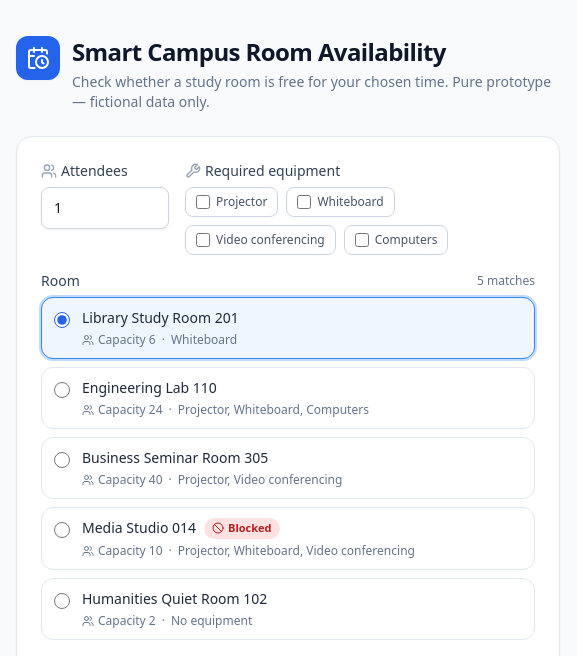
Test: F3 – blocked room is visible but never Available › checks as Unavailable for a valid slot that has no conflicting booking
Click the 4th radio button at (62,530), box [54,522,70,538]
(page scrolled)
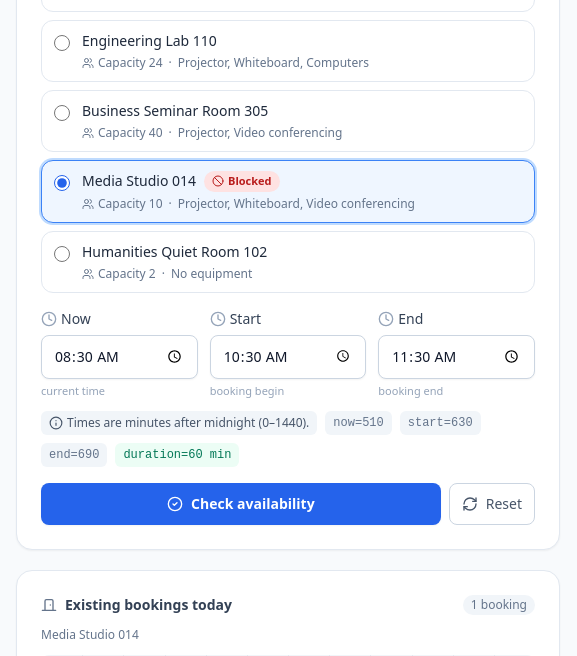
Replace the text in the time field labelled "Now" with "08:00" at (119,356), box [41,334,198,378]
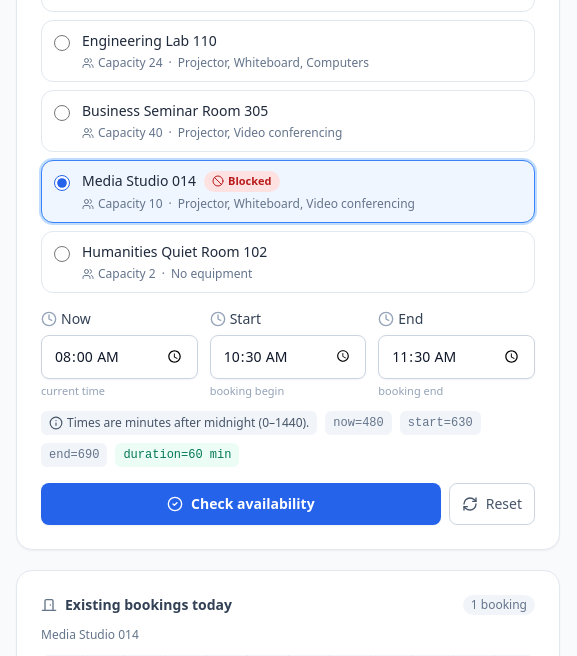
Replace the text in the time field labelled "Start" with "13:00" at (288,356), box [210,334,366,378]
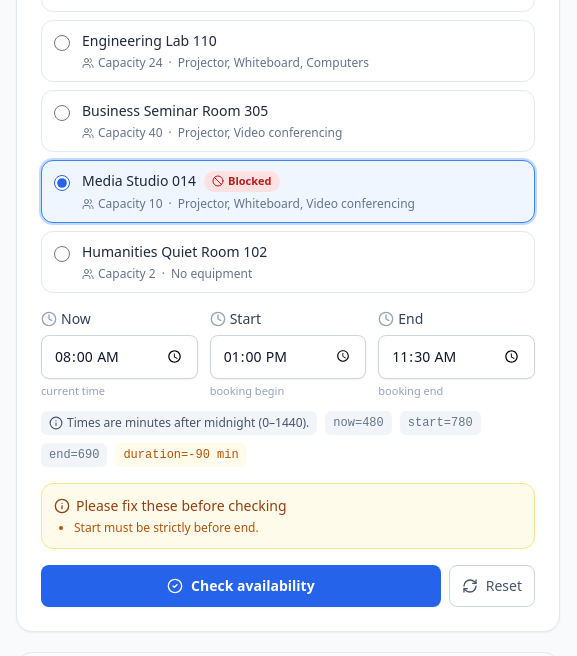
Replace the text in the time field labelled "End" with "14:00" at (457,356), box [378,334,535,378]
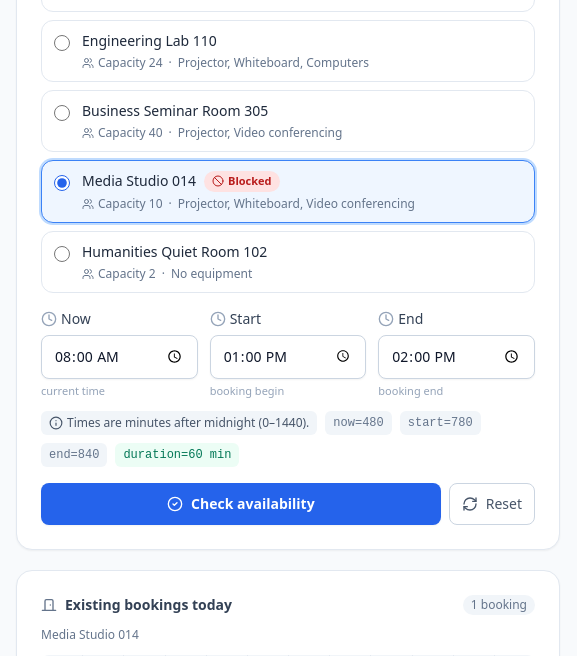
Click the button "Check availability" at (241,504), box [41,483,441,525]
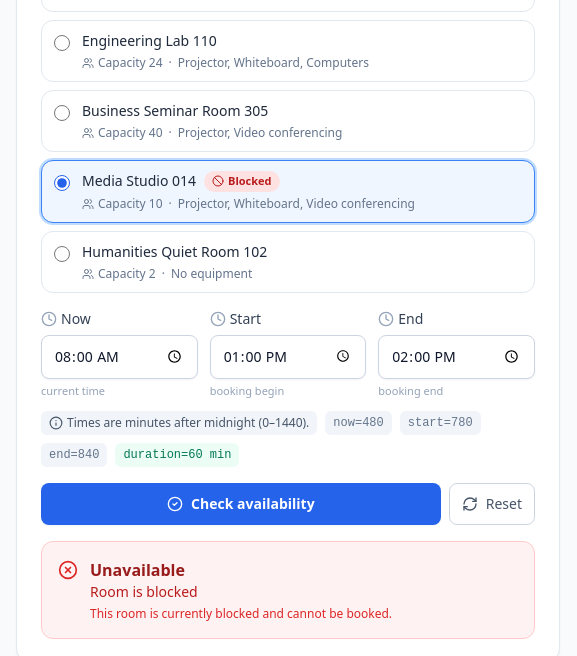
Now the message shows "Unavailable", box [90,559,185,581]
Now the message shows "Room is blocked", box [90,582,198,601]
